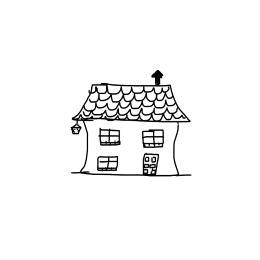chimney: (148, 67, 167, 90)
closed_window: (140, 127, 167, 151), (96, 126, 124, 147), (94, 152, 122, 173)
door: (139, 150, 161, 181)
roof: (67, 79, 195, 126)
small_house: (3, 2, 260, 260)
wall: (80, 115, 183, 180)
